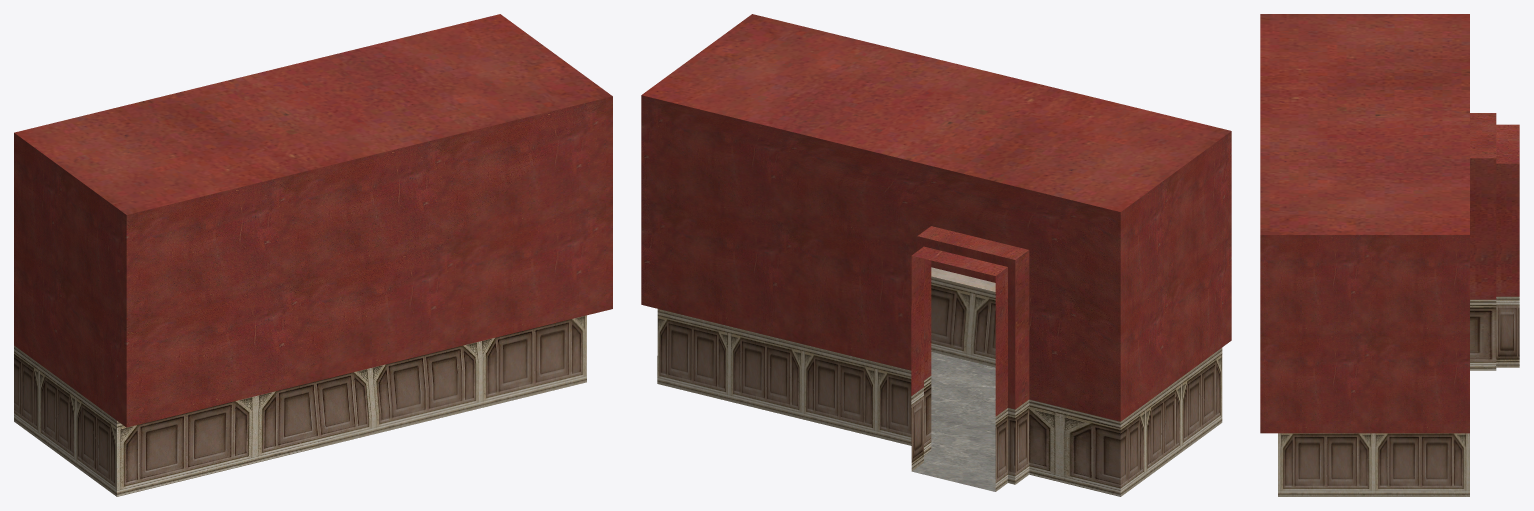
Rendered from thm_nboo_block_bldg_64x32_s02_r1_foyer1_mesh_r1.fbx.
3 views of the same model, side by side, from view 1: azimuth 30°, elevation 25°; view 2: azimuth 150°, elevation 25°; view 3: azimuth 270°, elevation 25° (orthographic). The views are drawn at different scales.
Visible parts, largest first — view 1: mesh_node; view 2: mesh_node; view 3: mesh_node.
Part boxes in pixels (<box>): mesh_node: <box>14,14,612,496</box>; mesh_node: <box>641,14,1231,496</box>; mesh_node: <box>1260,14,1519,496</box>.
Bounding box in the file's own units: 7.34 × 4.16 × 3.64.
